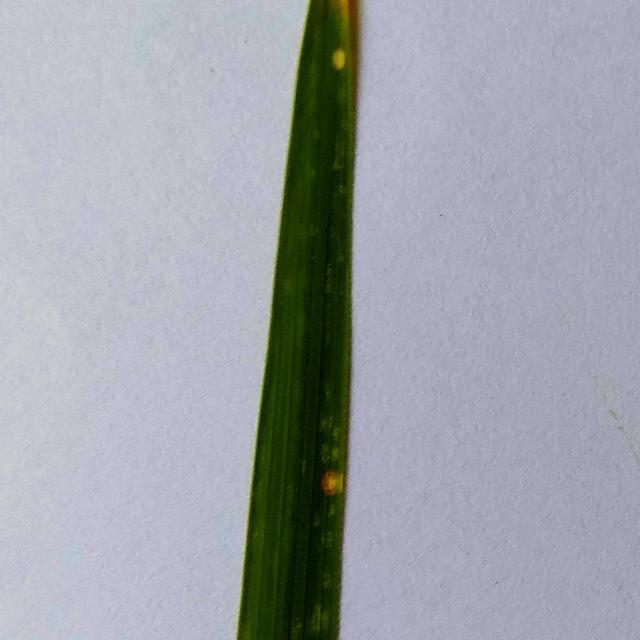Rice_Blast: (300, 450, 350, 500), (324, 40, 361, 78)
